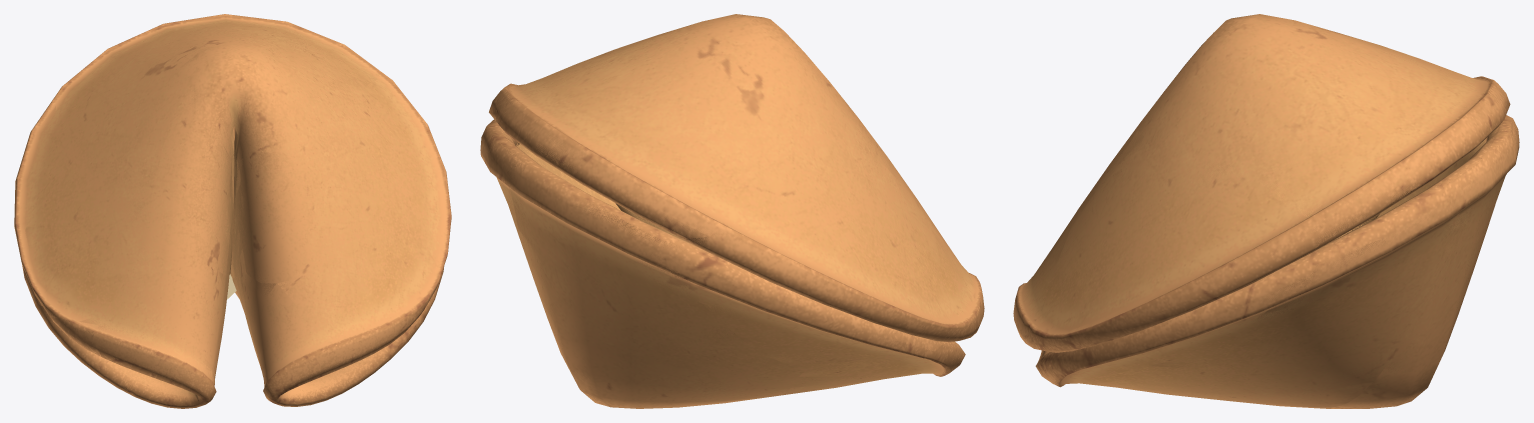
Rendered from cookie-fractured.glb.
3 renders of one model, left to right at view 1: azimuth 30°, elevation 25°; view 2: azimuth 150°, elevation 25°; view 3: azimuth 270°, elevation 25°, orthographic. The views are drawn at different scales.
Visible parts, largest first — view 1: Cookie_Intact, Cookie_Shard_10, Cookie_Shard_01, Cookie_Shard_07, Cookie_Shard_04, Cookie_Shard_02, Cookie_Shard_06, Cookie_Shard_09, Cookie_Shard_12, Cookie_Shard_03, Cookie_Shard_14, Cookie_Shard_11 (+1 smaller); view 2: Cookie_Intact, Cookie_Shard_06, Cookie_Shard_05, Cookie_Shard_08, Cookie_Shard_07, Cookie_Shard_02, Cookie_Shard_03; view 3: Cookie_Intact, Cookie_Shard_10, Cookie_Shard_07, Cookie_Shard_13, Cookie_Shard_11, Cookie_Shard_05, Cookie_Shard_06, Cookie_Shard_04.
Part boxes in pixels (bbox=[...]): Cookie_Intact: bbox=[14, 14, 451, 408]; Cookie_Shard_10: bbox=[320, 72, 450, 329]; Cookie_Shard_01: bbox=[144, 135, 329, 283]; Cookie_Shard_07: bbox=[195, 14, 358, 163]; Cookie_Shard_04: bbox=[214, 262, 416, 405]; Cookie_Shard_02: bbox=[18, 162, 148, 324]; Cookie_Shard_06: bbox=[53, 17, 204, 183]; Cookie_Shard_09: bbox=[98, 239, 226, 375]; Cookie_Shard_12: bbox=[94, 327, 215, 408]; Cookie_Shard_03: bbox=[33, 301, 143, 397]; Cookie_Shard_14: bbox=[226, 211, 245, 305]; Cookie_Shard_11: bbox=[229, 49, 381, 242]; Cookie_Intact: bbox=[480, 14, 984, 408]; Cookie_Shard_06: bbox=[545, 51, 876, 241]; Cookie_Shard_05: bbox=[503, 166, 802, 408]; Cookie_Shard_08: bbox=[662, 233, 907, 371]; Cookie_Shard_07: bbox=[502, 20, 804, 167]; Cookie_Shard_02: bbox=[836, 164, 974, 360]; Cookie_Shard_03: bbox=[785, 296, 981, 394]; Cookie_Intact: bbox=[1013, 14, 1518, 408]; Cookie_Shard_10: bbox=[1030, 144, 1319, 376]; Cookie_Shard_07: bbox=[1141, 14, 1485, 192]; Cookie_Shard_13: bbox=[1100, 209, 1462, 407]; Cookie_Shard_11: bbox=[1110, 130, 1472, 258]; Cookie_Shard_05: bbox=[1330, 122, 1519, 408]; Cookie_Shard_06: bbox=[1336, 33, 1512, 141]; Cookie_Shard_04: bbox=[1015, 223, 1166, 394].
Bounding box in the file's own units: 1.65 × 1.24 × 1.59.
2 materials, 1 textured.
